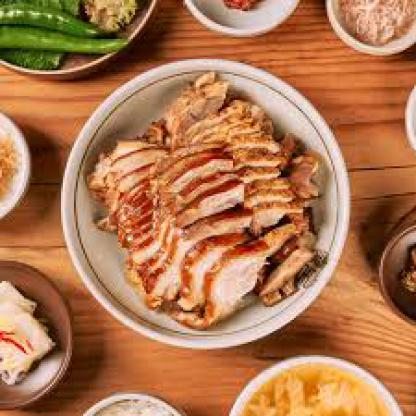baek Kimchi: (0, 275, 59, 381)
pig hocks: (89, 90, 314, 324)
